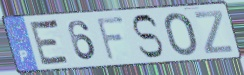6: (67, 20, 98, 62)
E: (28, 18, 73, 68)
F: (95, 15, 127, 63)
O: (163, 11, 200, 58)
S: (130, 13, 166, 60)
Z: (192, 8, 235, 55)
